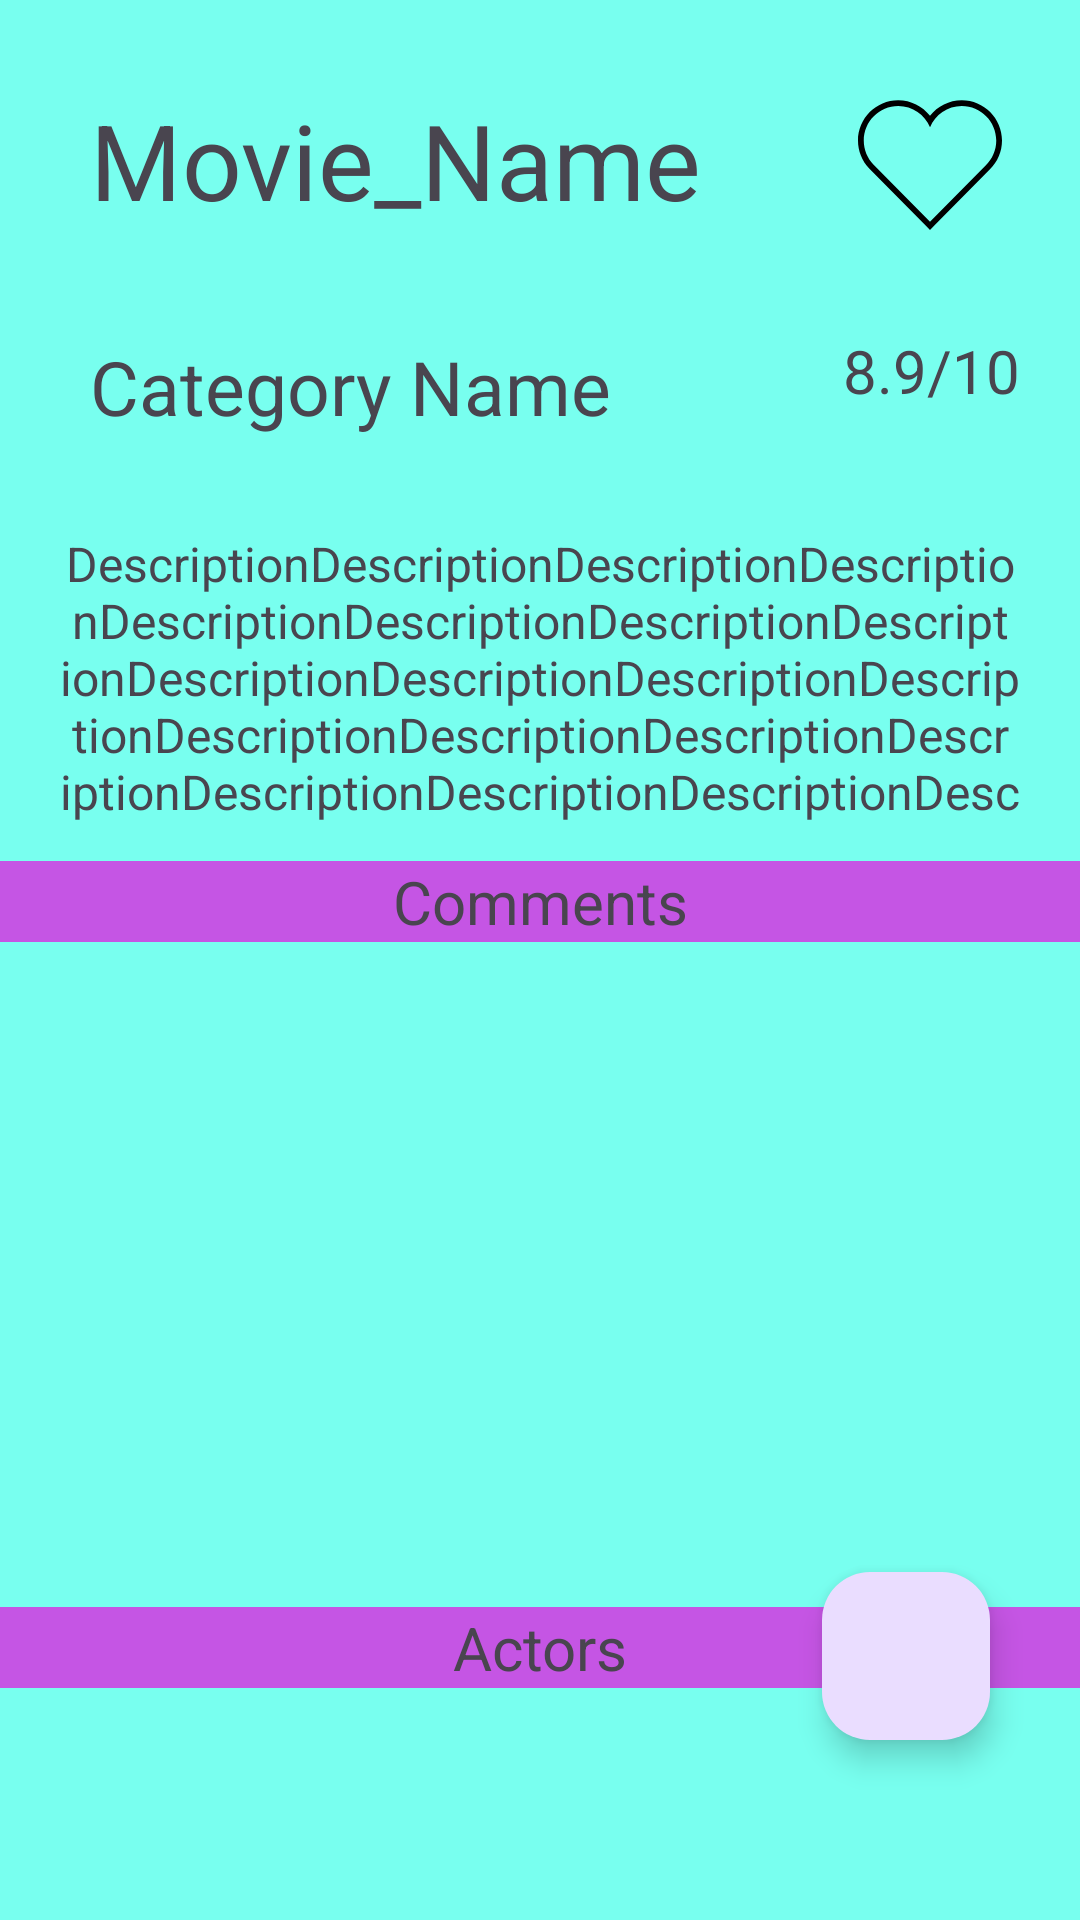

Named icons in this screenshot (1080x1920) and their centers, (x=x, y=y):
heart: (x=930, y=165)
